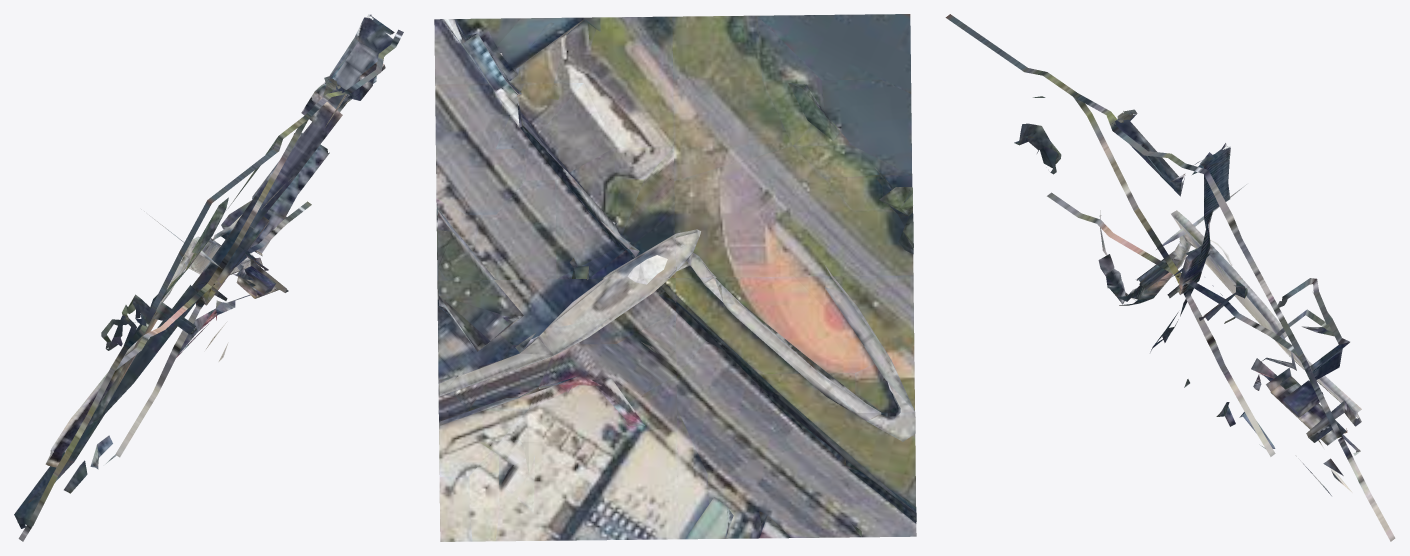
3 views of the same model, side by side, from view 1: azimuth 30°, elevation 25°; view 2: azimuth 150°, elevation 25°; view 3: azimuth 270°, elevation 25° (orthographic). The views are drawn at different scales.
Bounding box in the file's own units: 154 × 143 × 134.
2 materials, 2 textured.
